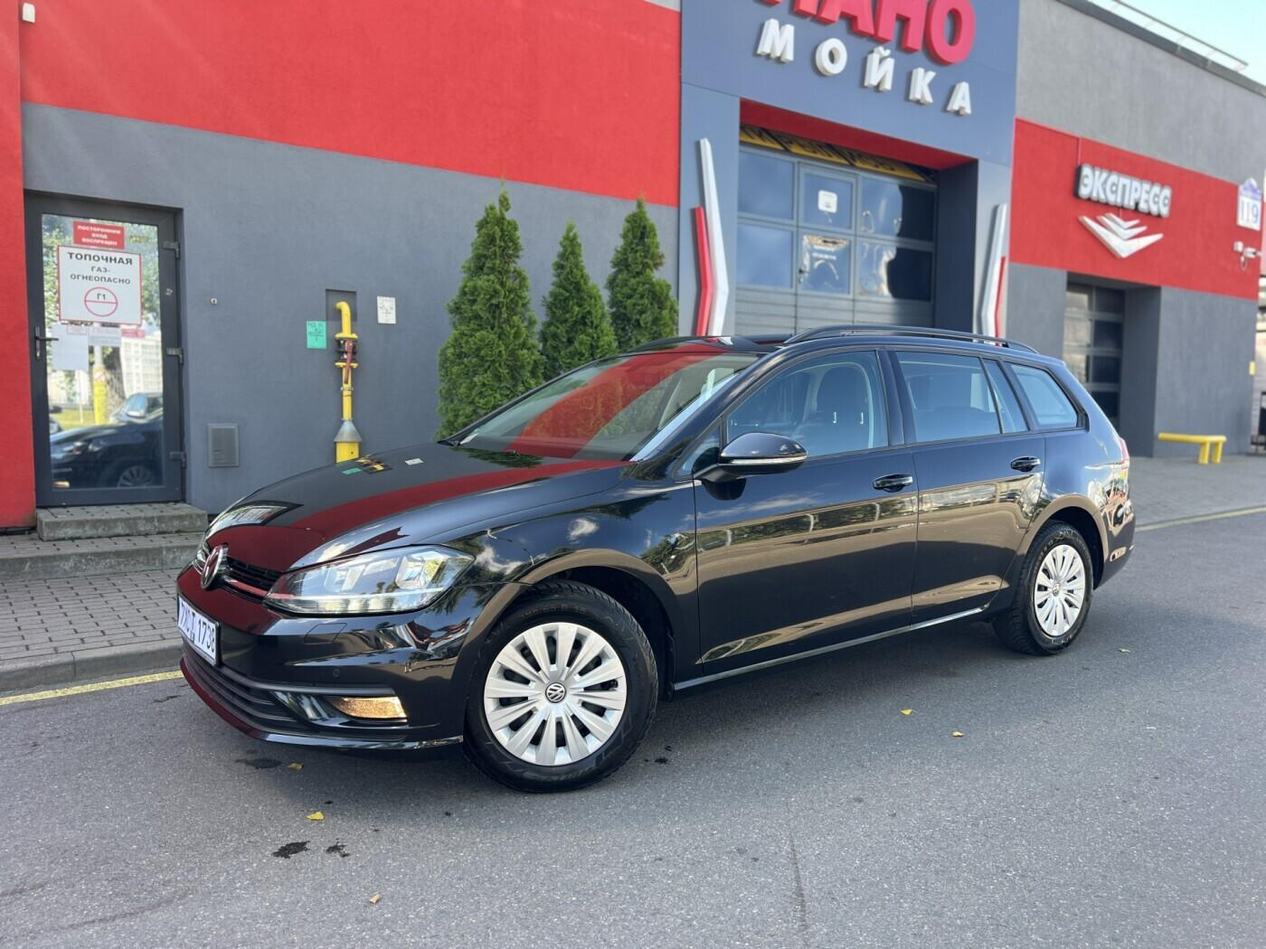Golf_2017-2021: (169, 323, 1139, 793)
